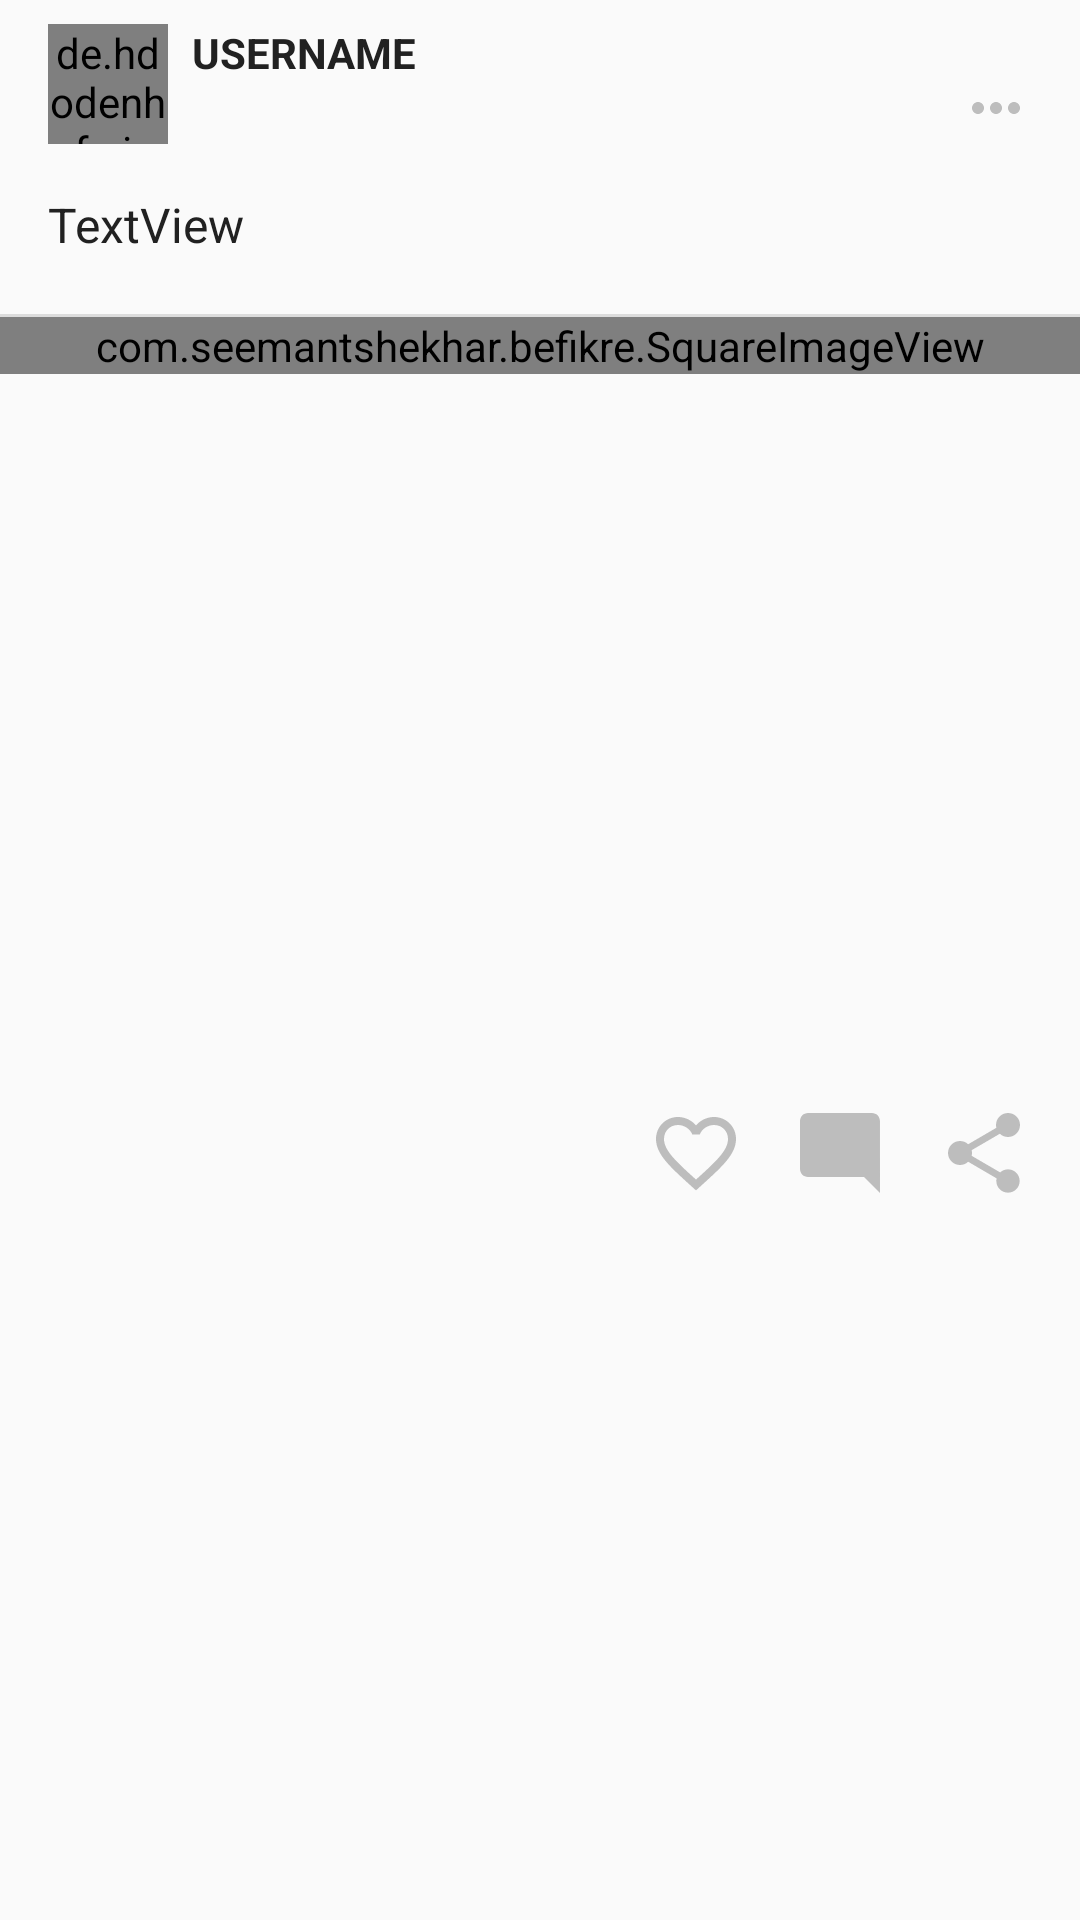

Named icons in this screenshot (1080px×1920px) and their bounding boxes, (x1, y1, x2, y2):
dots: (972, 102, 1020, 114)
like border: (656, 1117, 736, 1190)
share: (948, 1113, 1020, 1193)
